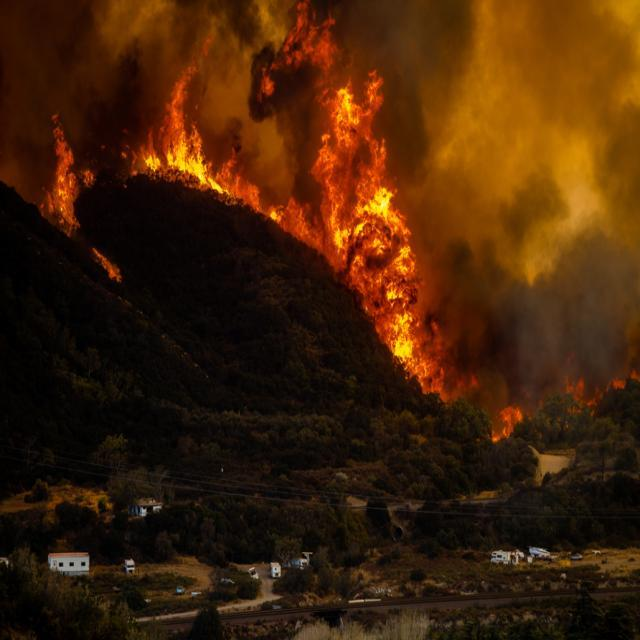Smoke: (430, 0, 639, 417), (216, 0, 489, 185), (0, 0, 198, 179)
